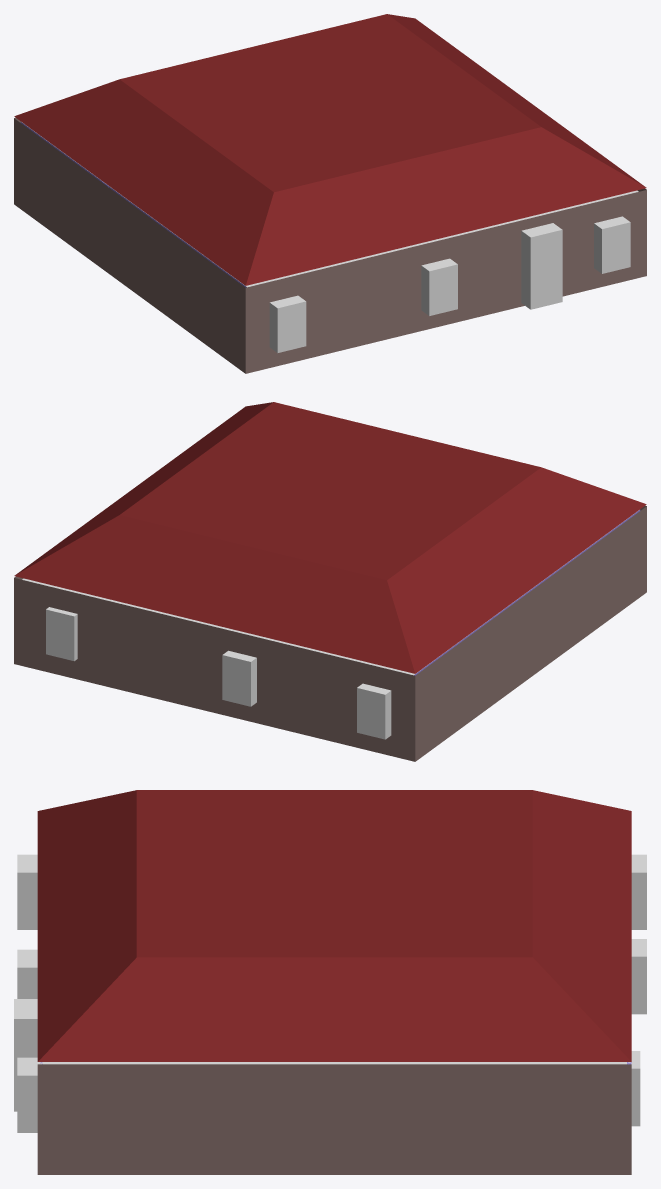
File: Room.fbx
The picture shows the model from 3 angles, top to bottom: view 1: azimuth 30°, elevation 25°; view 2: azimuth 150°, elevation 25°; view 3: azimuth 270°, elevation 25°; orthographic projection. The views are drawn at different scales.
Parts seen in each view (by area): view 1: Roof, Room, Window.004, Window.010, Window.002, Window.003; view 2: Roof, Room, Window.001, Window, Window.005; view 3: Roof, Room, Window.004, Window.003, Window.010, Window.001, Window, Window.002, Window.005.
Part boxes in pixels (<box>): Roof: <box>14,14,646,285</box>; Room: <box>14,117,646,373</box>; Window.004: <box>521,223,562,309</box>; Window.010: <box>269,295,306,352</box>; Window.002: <box>421,258,457,315</box>; Window.003: <box>594,216,630,273</box>; Roof: <box>14,402,646,673</box>; Room: <box>14,505,646,761</box>; Window.001: <box>357,683,391,739</box>; Window: <box>222,650,256,706</box>; Window.005: <box>46,607,77,661</box>; Roof: <box>37,790,631,1061</box>; Room: <box>37,1062,631,1174</box>; Window.004: <box>14,999,37,1111</box>; Window.003: <box>17,1057,42,1132</box>; Window.010: <box>17,854,37,929</box>; Window.001: <box>631,854,646,929</box>; Window: <box>631,939,646,1014</box>; Window.002: <box>17,949,37,998</box>; Window.005: <box>627,1051,640,1126</box>.
Size of the model in its own units: 4126 by 1346 by 4397.
